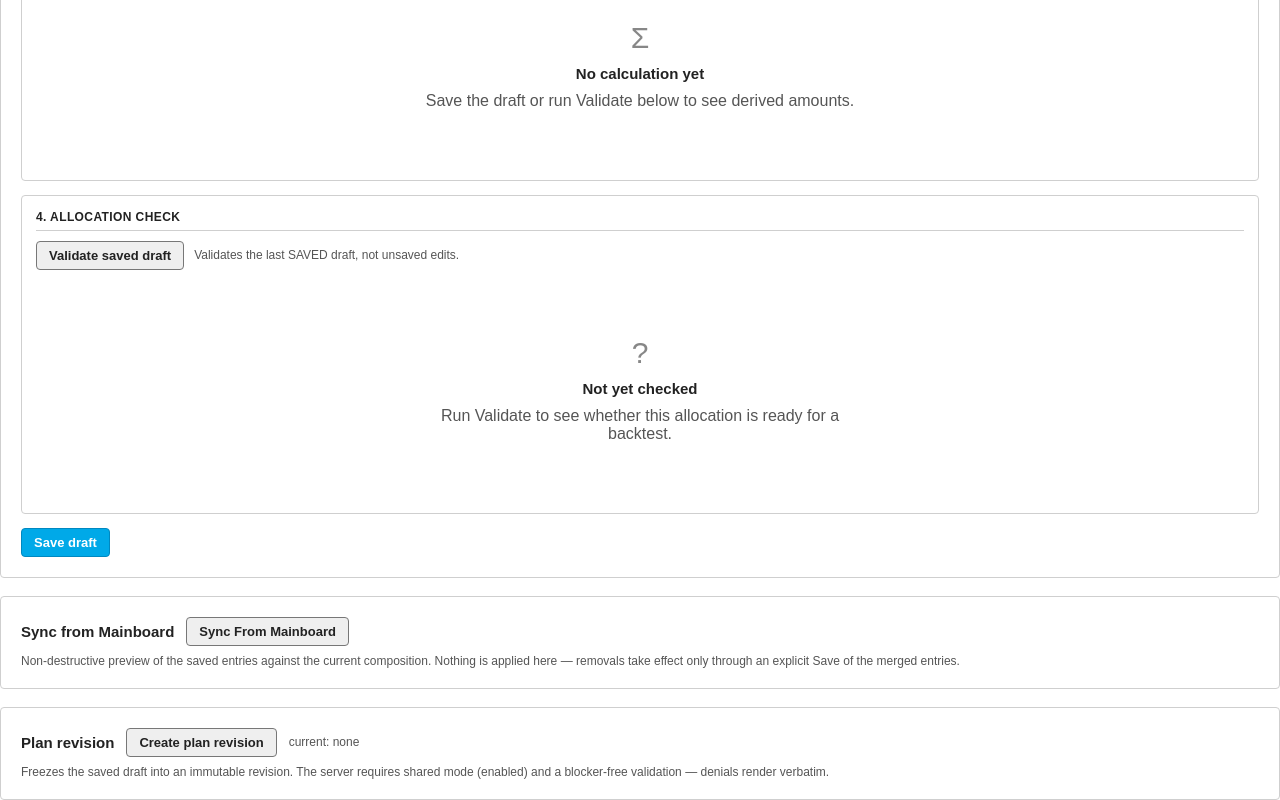
Test case: Portfolio / Equity Allocation page › creates a plan revision with the OCC token and renders the freeze result
(page scrolled)
Click the button "Create plan revision" at [202, 742], box 126,728 -> 277,757
(page scrolled)
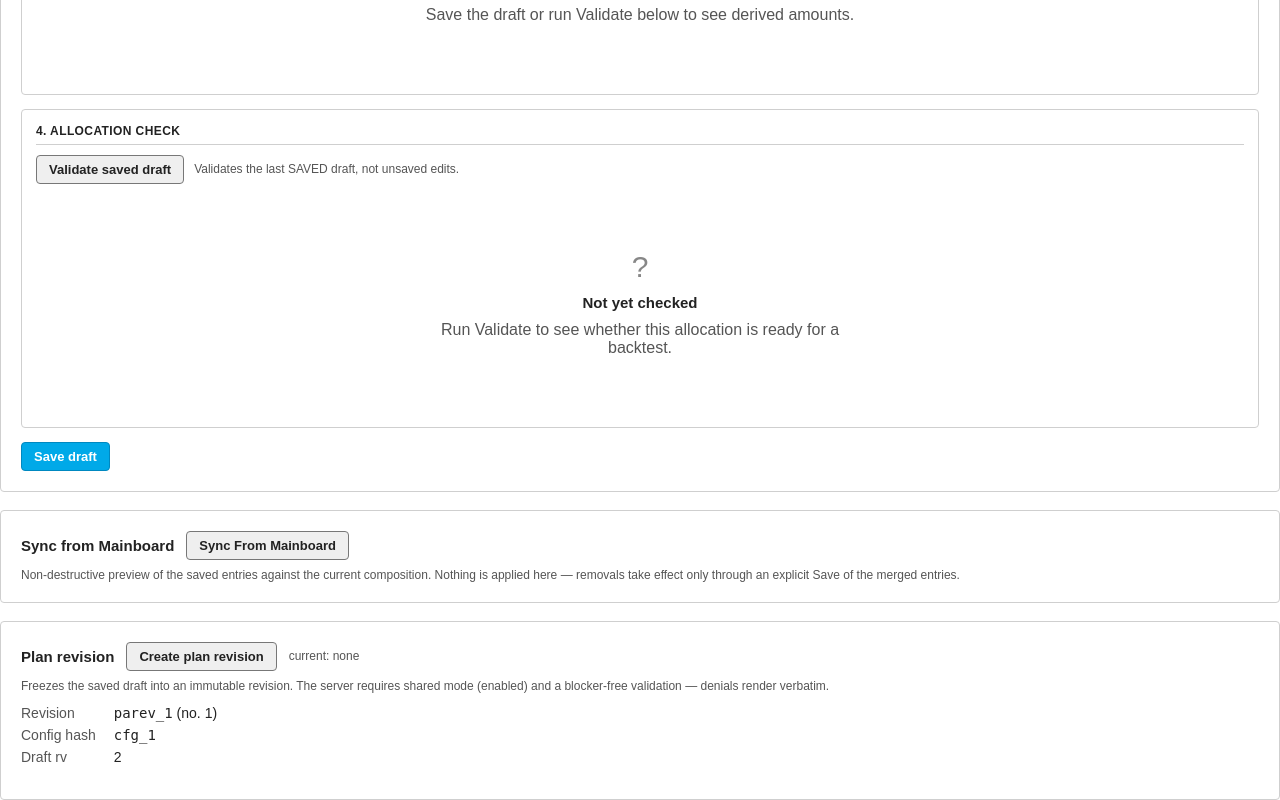
Now the text "parev_1" is shown, box 114,705 -> 173,721
Now the text "(no. 1)" is shown, box 114,705 -> 217,721
